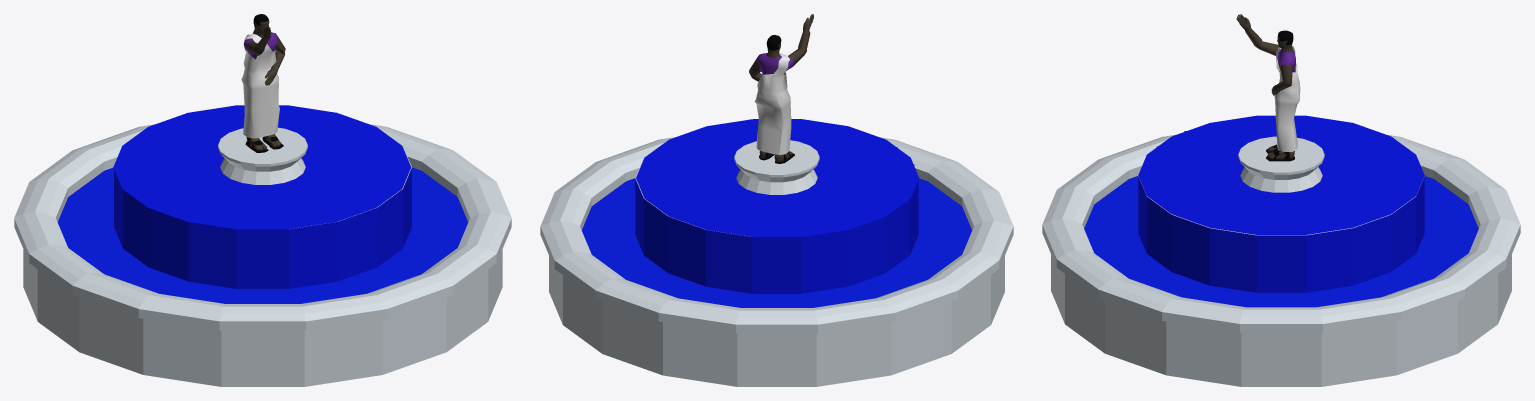
File: Fountain.fbx
3 renders of one model, left to right at view 1: azimuth 30°, elevation 25°; view 2: azimuth 150°, elevation 25°; view 3: azimuth 270°, elevation 25°, orthographic. The views are drawn at different scales.
Visible parts, largest first — view 1: Water, Fountain, lanistatoga.001, schwarzerstatist.001; view 2: Water, Fountain, lanistatoga.001, schwarzerstatist.001, lanistashirt.001; view 3: Water, Fountain, lanistatoga.001, schwarzerstatist.001.
Part boxes in pixels (left/top/right/bottom): Water: left=57, top=105, right=468, bottom=303; Fountain: left=14, top=124, right=511, bottom=386; lanistatoga.001: left=241, top=33, right=279, bottom=138; schwarzerstatist.001: left=246, top=20, right=285, bottom=150; Water: left=581, top=119, right=972, bottom=307; Fountain: left=540, top=137, right=1013, bottom=386; lanistatoga.001: left=754, top=53, right=791, bottom=154; schwarzerstatist.001: left=749, top=14, right=813, bottom=161; lanistashirt.001: left=756, top=53, right=792, bottom=74; Water: left=1084, top=115, right=1478, bottom=307; Fountain: left=1042, top=135, right=1520, bottom=386; lanistatoga.001: left=1274, top=46, right=1300, bottom=151; schwarzerstatist.001: left=1236, top=14, right=1294, bottom=159.
Bounding box in the file's own units: 594 × 379 × 603.
